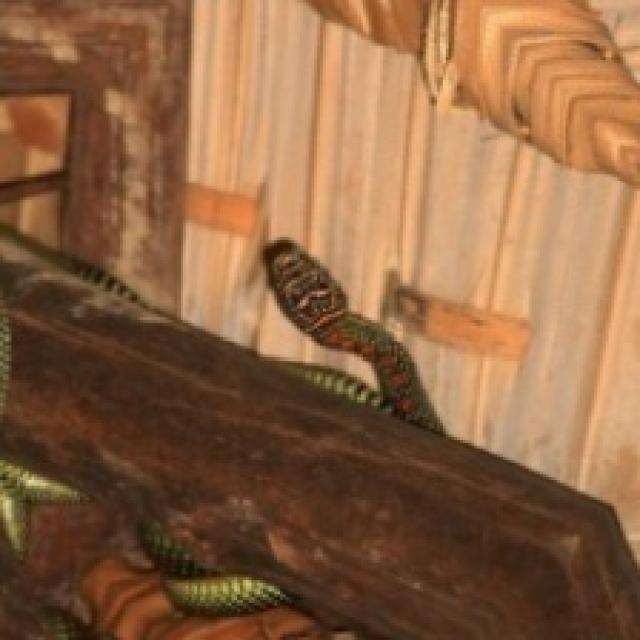paradise tree snake: (263, 240, 440, 431), (86, 526, 320, 637), (0, 226, 144, 304), (0, 459, 84, 553), (292, 364, 380, 408), (1, 308, 11, 414)
